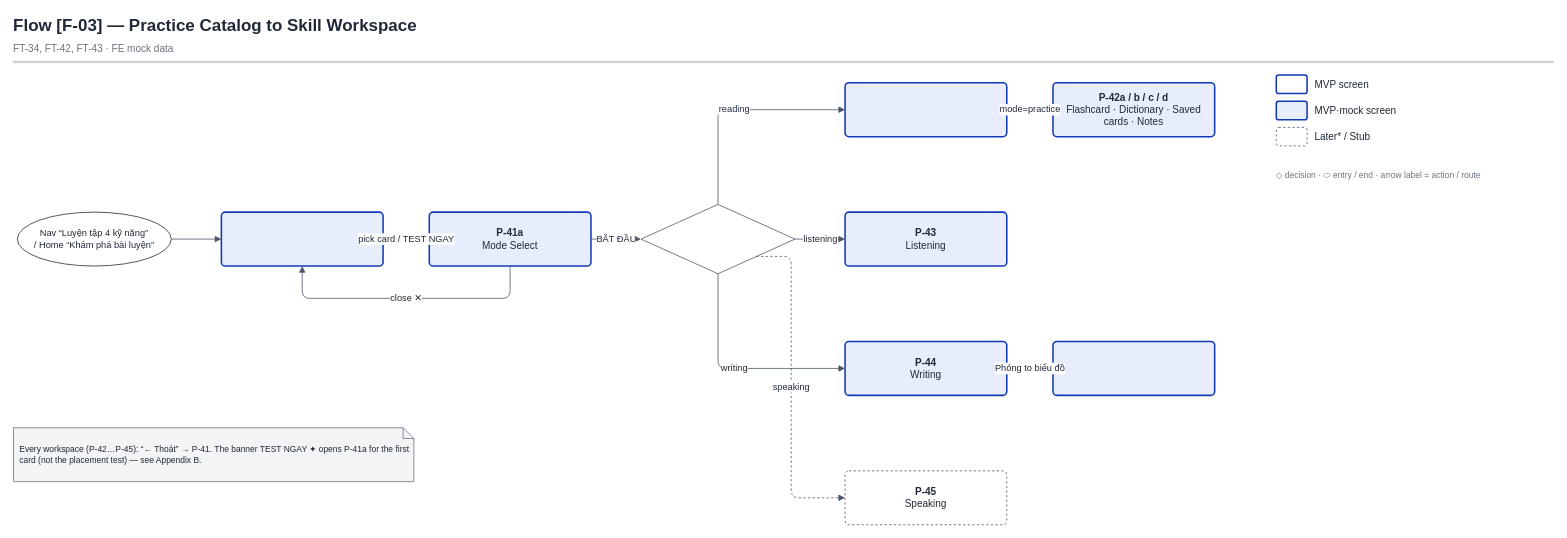
The diagram is 1567 pixels wide and 538 high, and some of its shapes have lost their labels. Here are the shapes that lost their labels. From the top down, the centre of each, then its label:
At pixel 925 109: "P-42 Reading (?mode=)".
At pixel 301 238: "P-41 Practice Catalog".
At pixel 717 239: "Card skill?".
At pixel 1133 368: "P-44a Chart Zoom".
